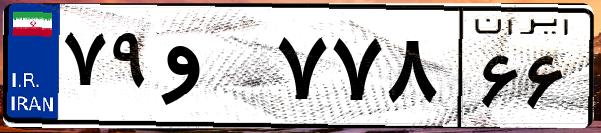6: (475, 38, 525, 113), (525, 38, 570, 115)
7: (270, 28, 330, 110), (330, 28, 385, 110), (57, 26, 110, 100)
8: (385, 28, 445, 110)
9: (110, 28, 158, 98)
و: (158, 20, 270, 120)
